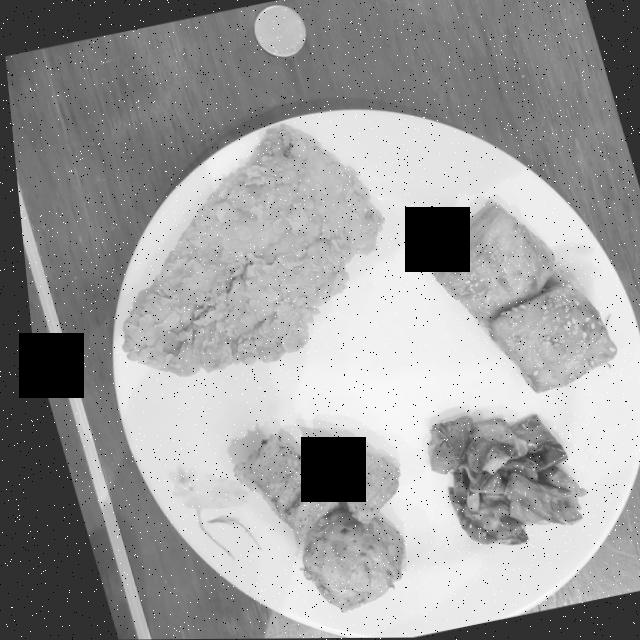coin: (253, 5, 305, 58)
creamy tofu: (426, 204, 609, 394)
fried chicken cutlet: (114, 125, 378, 377)
fried potato: (224, 436, 394, 613)
